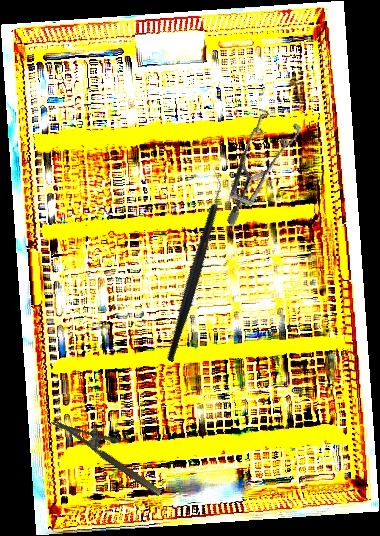Chopper: (108, 170, 278, 363)
Needle Holder: (51, 402, 172, 498)
Speculum: (186, 95, 327, 228)
